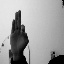f: (9, 9, 30, 55)
